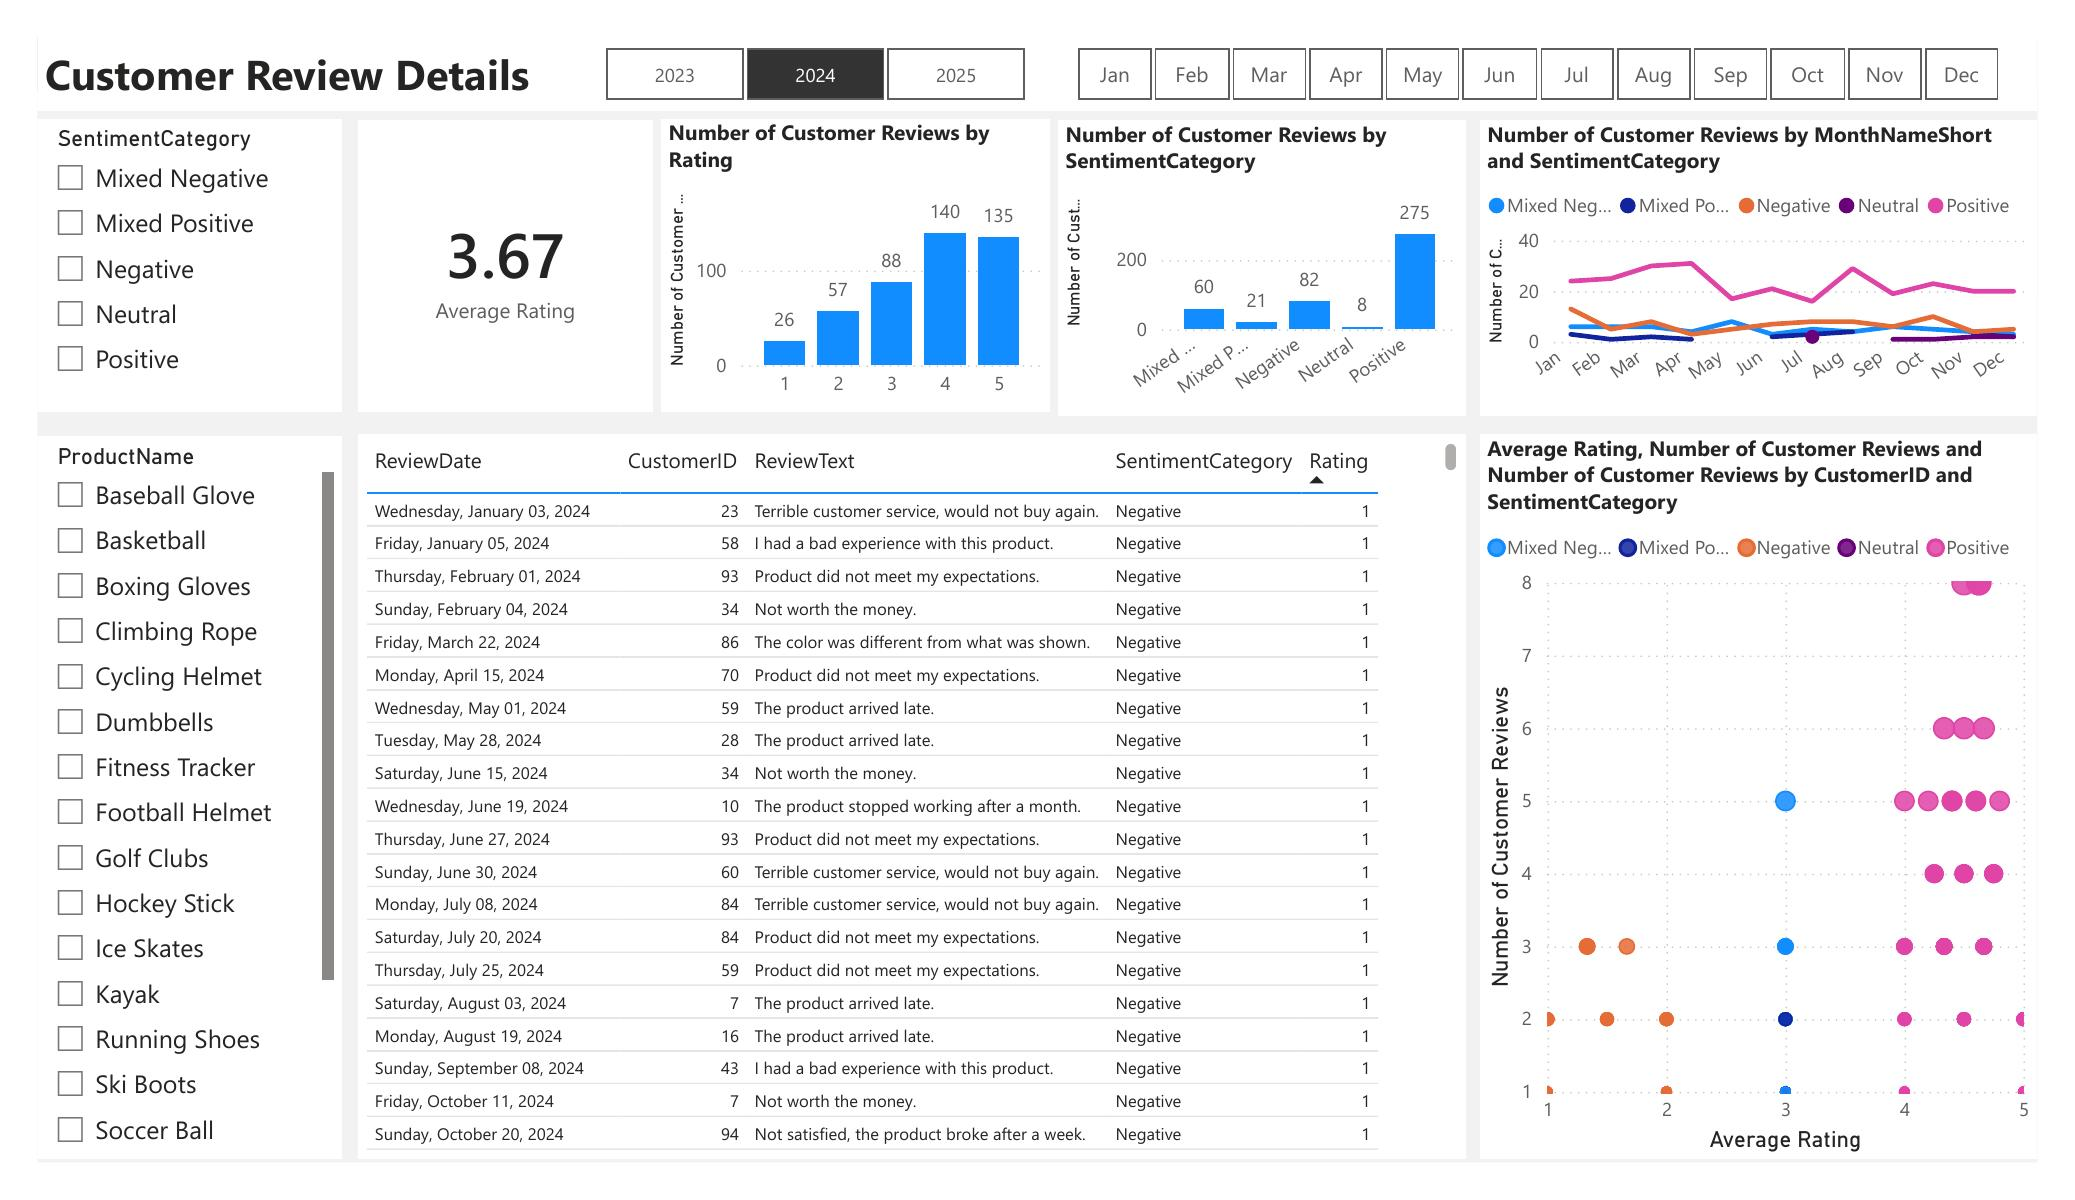

Layout of this report page (visuals, bound fields, positions):
{"tool":"powerbi","page":{"name":"Customer Review Details","canvas":[1280,720],"ordinal":3},"visuals":[{"type":"slicer","fields":{"Values":["products.ProductName"]},"box":[0,254.6,195.4,463.1],"z":0},{"type":"textbox","box":[0,0,1280.2,47.4],"z":1000},{"type":"slicer","fields":{"Values":["Calendar.Year"]},"box":[337.5,0,318.6,47.4],"z":2000},{"type":"slicer","fields":{"Values":["Calendar.MonthNameShort"]},"box":[639.5,0,639.5,47.4],"z":3000},{"type":"cardVisual","fields":{"Data":["Measure Table.Average Rating"]},"box":[204.8,52.6,189.2,187.7],"z":4000},{"type":"clusteredColumnChart","fields":{"Category":["fact_customer_reviews_with_sentiment.Rating"],"Y":["Measure Table.Number of Customer Reviews"]},"box":[398.9,52.1,248.7,188.3],"z":5000},{"type":"clusteredColumnChart","fields":{"Category":["fact_customer_reviews_with_sentiment.SentimentCategory"],"Y":["Measure Table.Number of Customer Reviews"]},"box":[652.6,53.3,261.7,188.3],"z":6000},{"type":"lineChart","title":"Number of Customer Reviews by Month and SentimentCategory","fields":{"Category":["Calendar.MonthNameShort"],"Series":["fact_customer_reviews_with_sentiment.SentimentCategory"],"Y":["Measure Table.Number of Customer Reviews"]},"box":[922.6,53.3,357.7,188.3],"z":7000},{"type":"tableEx","fields":{"Values":["fact_customer_reviews_with_sentiment.ReviewDate","fact_customer_reviews_with_sentiment.CustomerID","fact_customer_reviews_with_sentiment.ReviewText","fact_customer_reviews_with_sentiment.SentimentCategory","fact_customer_reviews_with_sentiment.Rating"]},"box":[204.6,254.4,708.9,463.6],"z":8000},{"type":"scatterChart","fields":{"Category":["customers.CustomerID"],"Series":["fact_customer_reviews_with_sentiment.SentimentCategory"],"Size":["Measure Table.Number of Customer Reviews"],"X":["Measure Table.Average Rating"],"Y":["Measure Table.Number of Customer Reviews"]},"box":[922.6,254.4,357.3,463.6],"z":9000},{"type":"slicer","fields":{"Values":["fact_customer_reviews_with_sentiment.SentimentCategory"]},"box":[0,52.1,195.4,188.3],"z":10000}]}

Visuals, with their boxes on the page's 1280x720 design canvas (x1, y1, x2, y2). These are canvas units, not pixel positions in the 2075x1200 screenshot, which may show the page scaled, cropped or inside an application window:
slicer - products.ProductName: (left=0, top=255, right=195, bottom=718)
textbox: (left=0, top=0, right=1280, bottom=47)
slicer - Calendar.Year: (left=338, top=0, right=656, bottom=47)
slicer - Calendar.MonthNameShort: (left=640, top=0, right=1279, bottom=47)
cardVisual - Measure Table.Average Rating: (left=205, top=53, right=394, bottom=240)
clusteredColumnChart - fact_customer_reviews_with_sentiment.Rating x Measure Table.Number of Customer Reviews: (left=399, top=52, right=648, bottom=240)
clusteredColumnChart - fact_customer_reviews_with_sentiment.SentimentCategory x Measure Table.Number of Customer Reviews: (left=653, top=53, right=914, bottom=242)
"Number of Customer Reviews by Month and SentimentCategory" lineChart: (left=923, top=53, right=1280, bottom=242)
tableEx - fact_customer_reviews_with_sentiment.ReviewDate x fact_customer_reviews_with_sentiment.CustomerID: (left=205, top=254, right=914, bottom=718)
scatterChart - customers.CustomerID x fact_customer_reviews_with_sentiment.SentimentCategory: (left=923, top=254, right=1280, bottom=718)
slicer - fact_customer_reviews_with_sentiment.SentimentCategory: (left=0, top=52, right=195, bottom=240)
